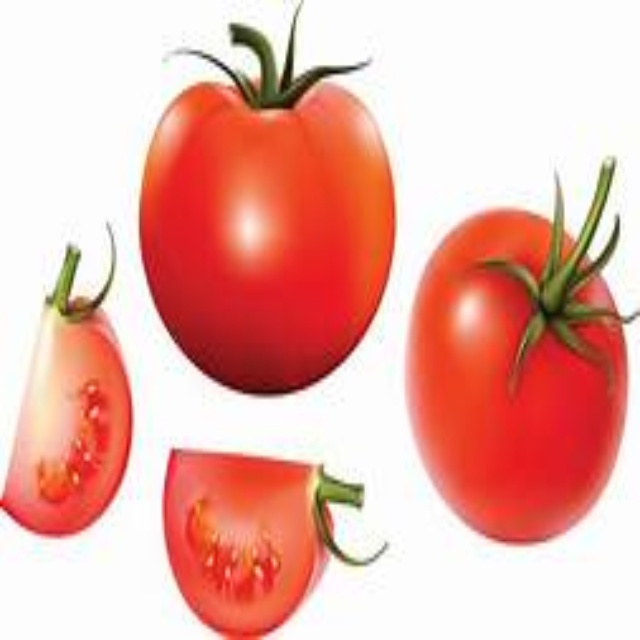tomato: (139, 56, 397, 404), (399, 218, 633, 548)
